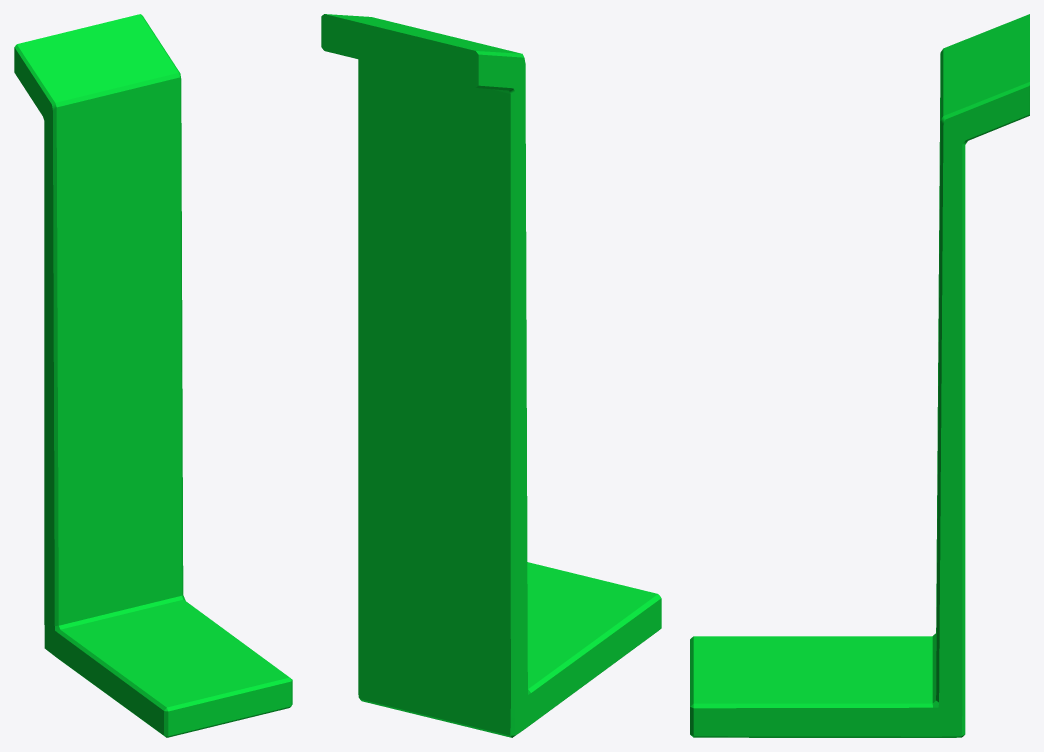
The model's file is Spinner_Metal_Side.fbx.
The picture shows the model from 3 angles, left to right: view 1: azimuth 30°, elevation 25°; view 2: azimuth 150°, elevation 25°; view 3: azimuth 270°, elevation 25°; orthographic projection. The views are drawn at different scales.
Parts seen in each view (by area): view 1: Spinner_Metal_Side; view 2: Spinner_Metal_Side; view 3: Spinner_Metal_Side.
Part boxes in pixels (box(x1,y1,x2,y2)): Spinner_Metal_Side: box(14, 14, 292, 737); Spinner_Metal_Side: box(321, 14, 661, 737); Spinner_Metal_Side: box(690, 14, 1029, 737).
Size of the model in its own units: 0.4838 by 2.1 by 0.9867.
